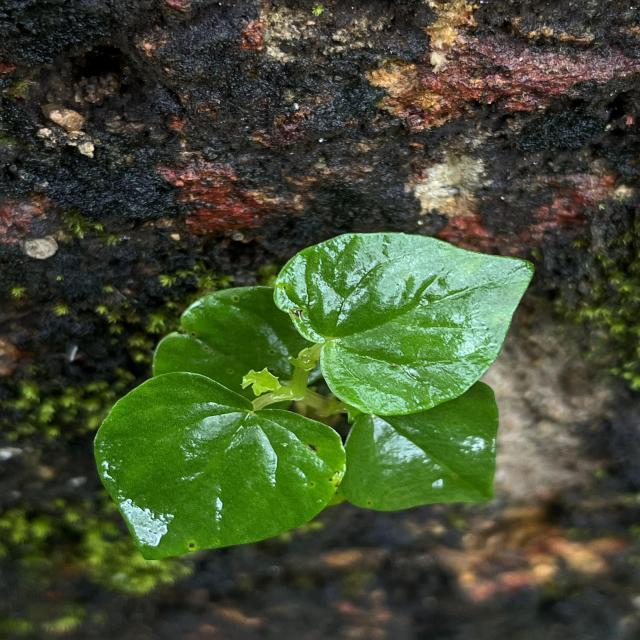Peperomia pellucida: (270, 230, 536, 420), (90, 370, 350, 564)
